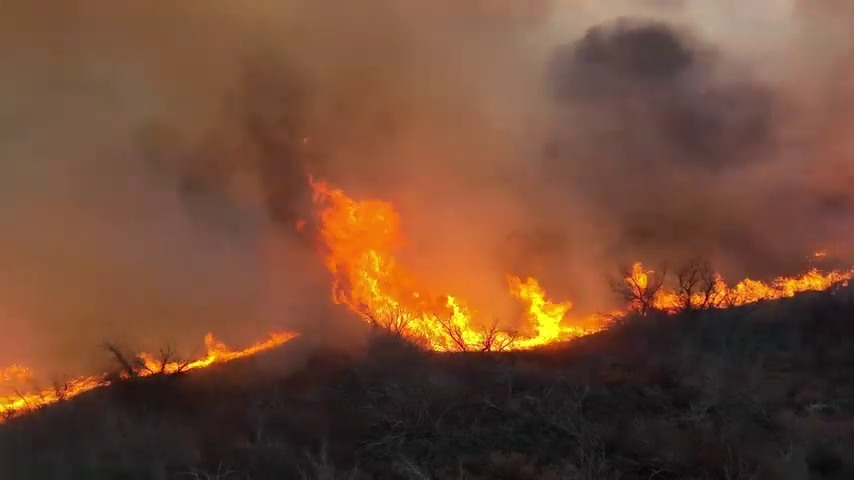forest_fire: (310, 180, 853, 350), (134, 332, 297, 375), (0, 375, 110, 416), (0, 365, 29, 389), (300, 222, 303, 227)
